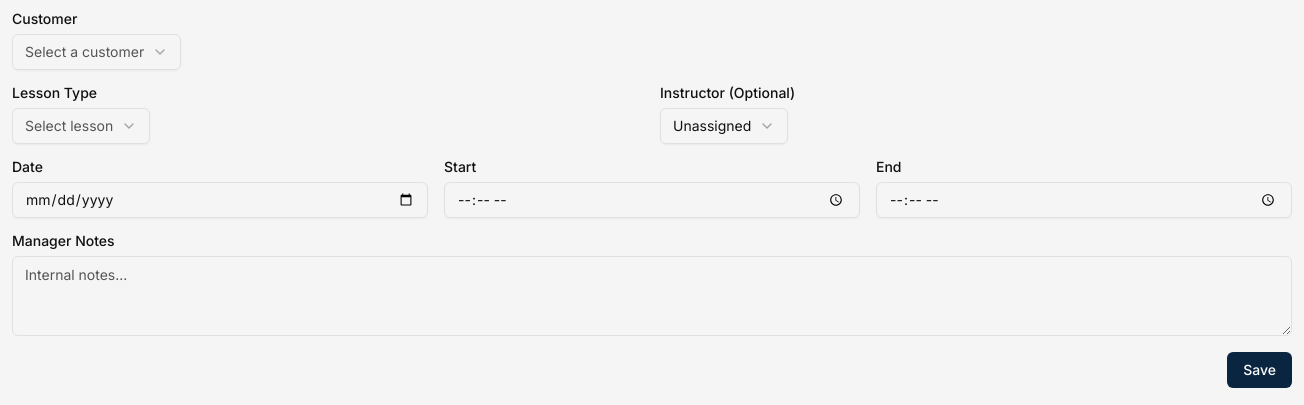
ManagerBookingForm › updates end time automatically based on lesson duration
# Select Lesson (60 mins)
Click the dropdown named "Lesson Type" at coordinates (81, 126), box [12,108,150,144]
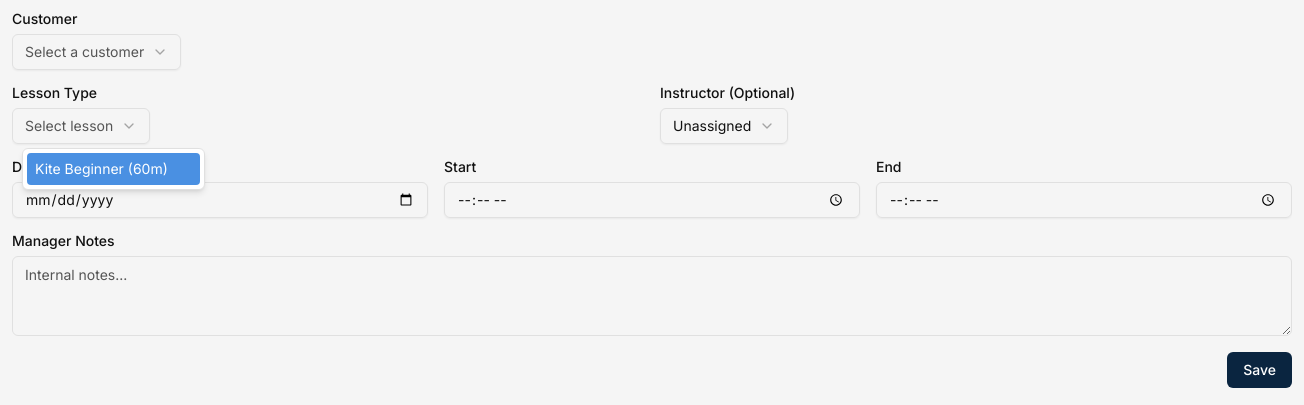
Click the option "Kite Beginner (60m)" at coordinates (113, 169), box [27,153,200,185]
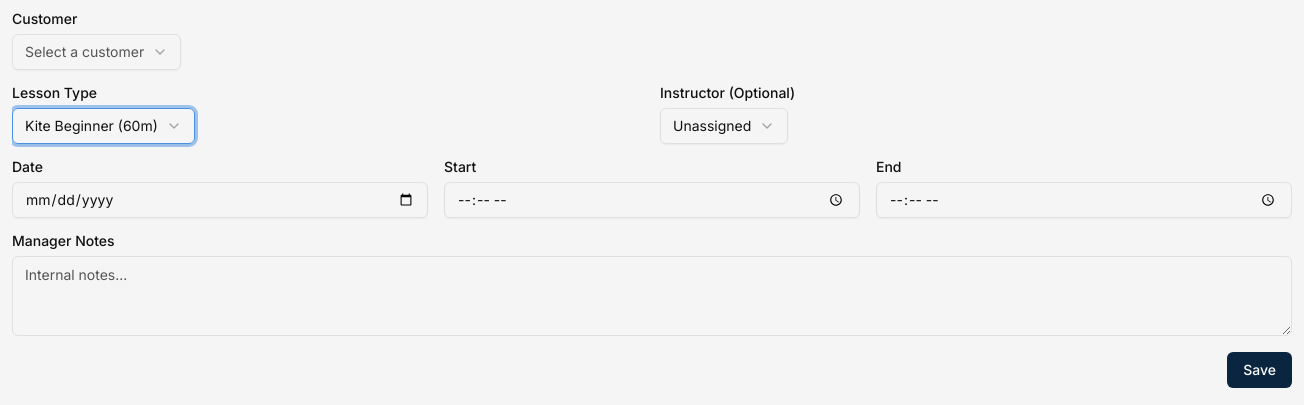
# Fill Start Time
Type "10:00" into the time field labelled "Start" at coordinates (652, 200), box [444,182,860,218]
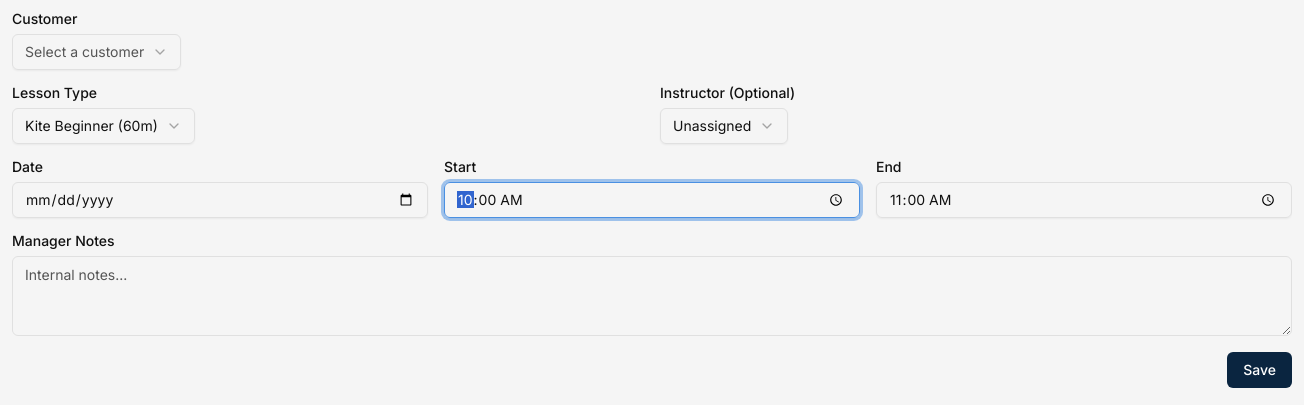
Now the time field labelled "End" holds "11:00", box [876,182,1292,218]
